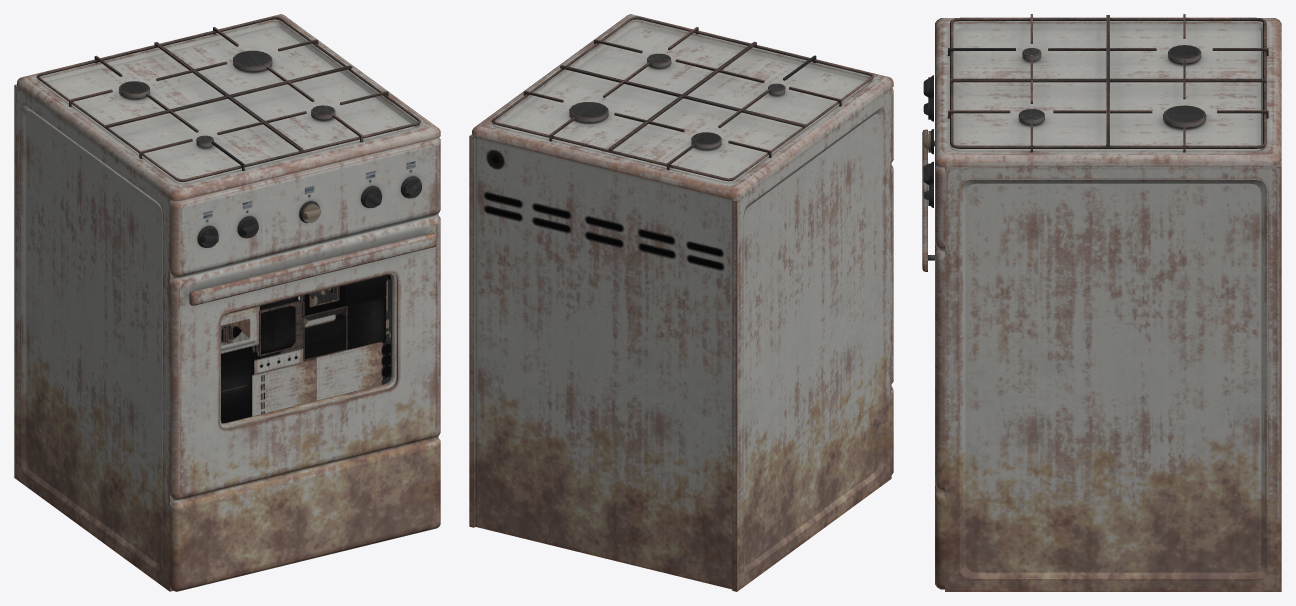
File: Gas Stove.fbx
3 renders of one model, left to right at view 1: azimuth 30°, elevation 25°; view 2: azimuth 150°, elevation 25°; view 3: azimuth 270°, elevation 25°, orthographic. The views are drawn at different scales.
Parts seen in each view (by area): view 1: GasStove, Glass; view 2: GasStove; view 3: GasStove.
Boxes of the visible parts, bbox=[...] form: GasStove: bbox=[14, 14, 440, 591]; Glass: bbox=[221, 275, 390, 423]; GasStove: bbox=[469, 14, 893, 591]; GasStove: bbox=[922, 14, 1281, 591].
Size of the model in its own units: 0.7 by 1.01 by 0.7481.
Materials: 1 (1 with a texture image).
